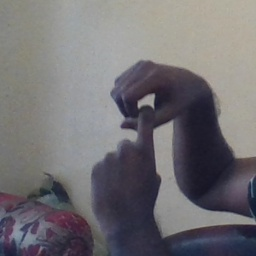Q: (87, 55, 201, 211)
